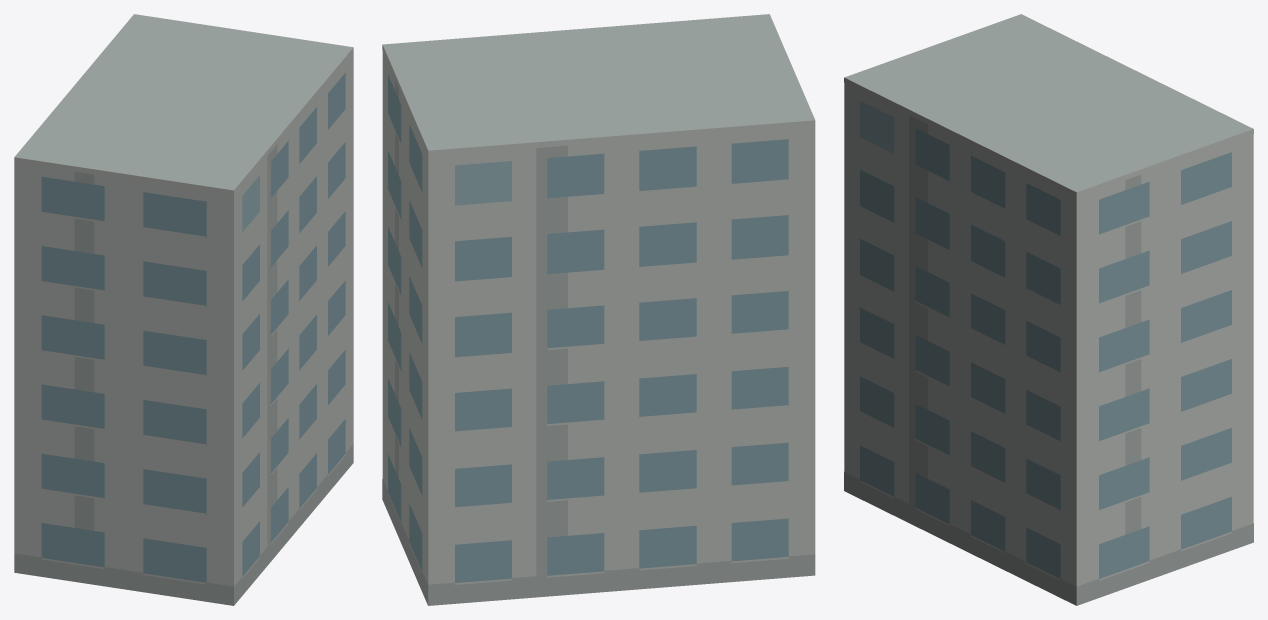
The model's file is survey-upis-32804015.glb.
3 renders of one model, left to right at view 1: azimuth 30°, elevation 25°; view 2: azimuth 150°, elevation 25°; view 3: azimuth 270°, elevation 25°, orthographic. The views are drawn at different scales.
Visible parts, largest first — view 1: survey-upis-32804015.tmp; view 2: survey-upis-32804015.tmp; view 3: survey-upis-32804015.tmp.
Part boxes in pixels (x1,y1,x2,y2): survey-upis-32804015.tmp: (14, 14, 353, 605); survey-upis-32804015.tmp: (382, 14, 815, 605); survey-upis-32804015.tmp: (844, 14, 1253, 605).
Bounding box in the file's own units: 17.49 × 18.9 × 16.98.
